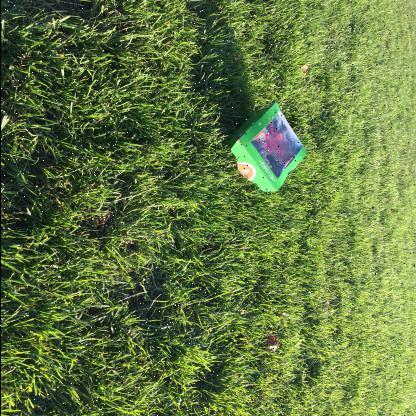cardboard: (224, 102, 307, 192)
